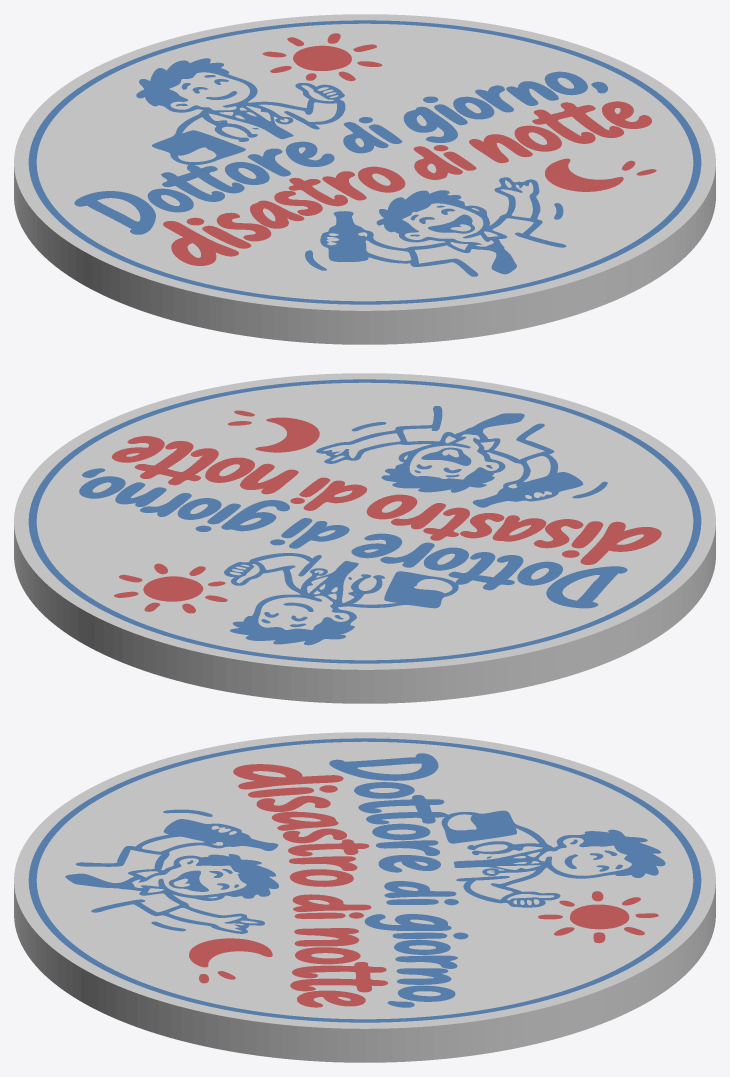
Rendered from sottobicchiere-dottore-giorno-disastro-notte.glb.
3 renders of one model, top to bottom at view 1: azimuth 30°, elevation 25°; view 2: azimuth 150°, elevation 25°; view 3: azimuth 270°, elevation 25°, orthographic.
Parts seen in each view (by area): view 1: coaster_base, coaster_ink, coaster_accent; view 2: coaster_base, coaster_ink, coaster_accent; view 3: coaster_base, coaster_ink, coaster_accent.
Boxes of the visible parts, left/top/right/bottom form: coaster_base: left=14, top=14, right=715, bottom=344; coaster_ink: left=28, top=20, right=701, bottom=304; coaster_accent: left=163, top=33, right=656, bottom=265; coaster_base: left=14, top=373, right=715, bottom=703; coaster_ink: left=28, top=379, right=701, bottom=663; coaster_accent: left=112, top=410, right=661, bottom=613; coaster_base: left=14, top=732, right=715, bottom=1062; coaster_ink: left=28, top=738, right=701, bottom=1022; coaster_accent: left=189, top=764, right=658, bottom=1007.
Size of the model in its own units: 0.075 by 0.004 by 0.075.
